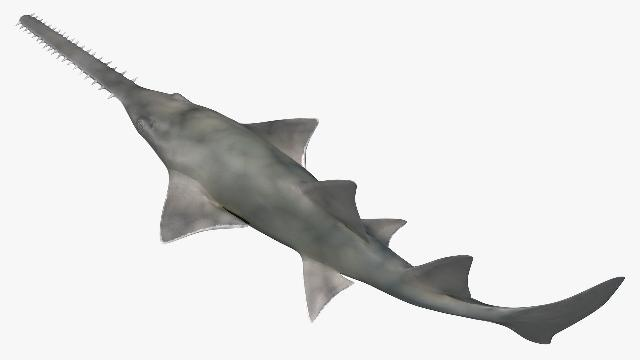Sirip Ekor: (504, 264, 630, 352)
Sirip Punggung: (298, 168, 480, 302)
